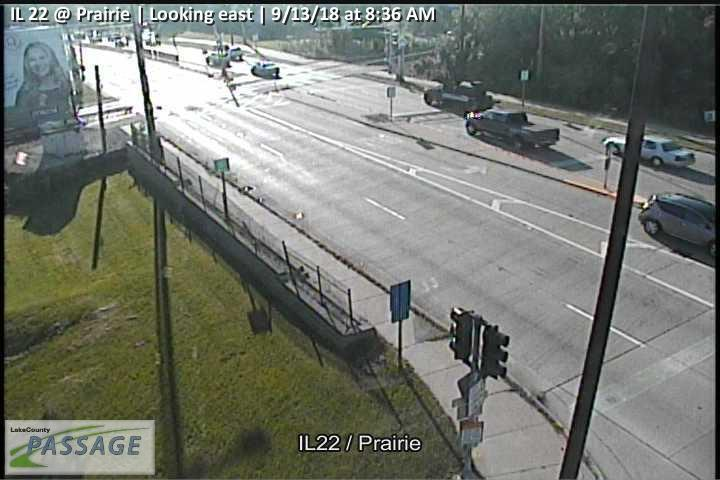SUV: (638, 191, 716, 257)
Sedan: (603, 132, 696, 168), (250, 61, 280, 76)
Truck: (466, 106, 560, 152)
